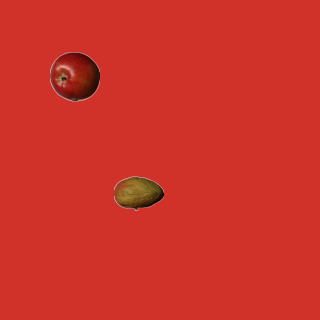Apple Braeburn: (49, 51, 99, 101)
Papaya: (113, 168, 163, 218)
